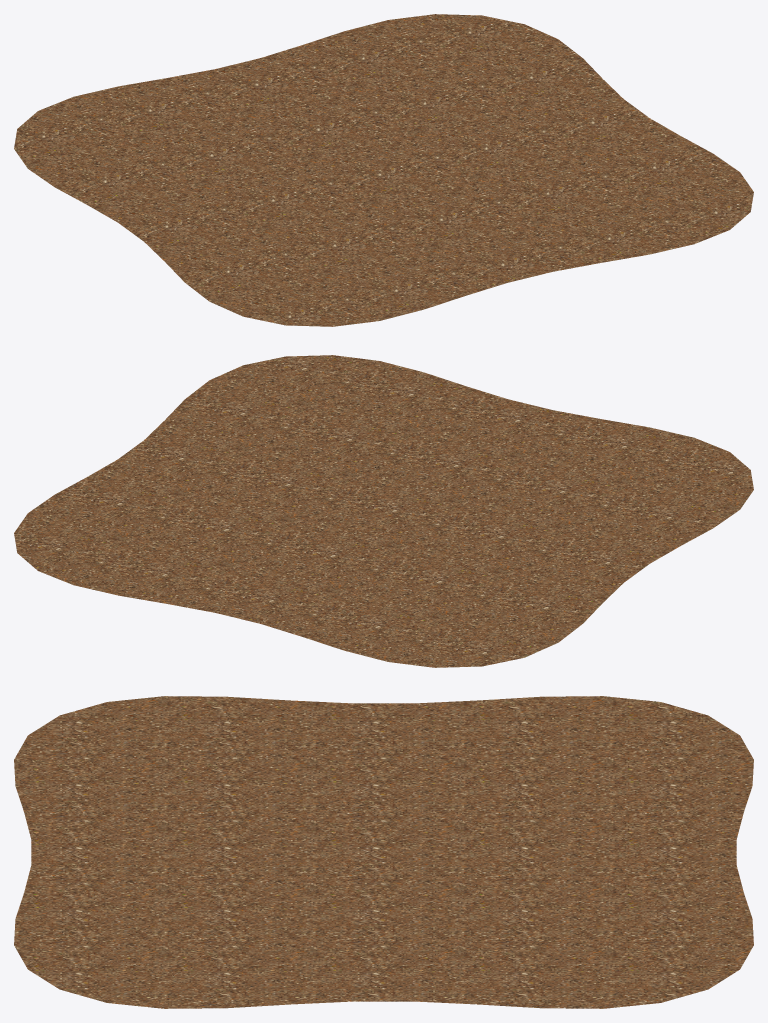
File: Ground.fbx
3 views of the same model, one above another, from view 1: azimuth 30°, elevation 25°; view 2: azimuth 150°, elevation 25°; view 3: azimuth 270°, elevation 25° (orthographic). The views are drawn at different scales.
Parts seen in each view (by area): view 1: Plane; view 2: Plane; view 3: Plane.
Part boxes in pixels (x1,y1,x2,y2): Plane: (14, 14, 753, 326); Plane: (14, 355, 753, 667); Plane: (14, 696, 753, 1008).
Size of the model in its own units: 20.72 by 20.72 by 3.38e-06.
Materials: 1 (1 with a texture image).
